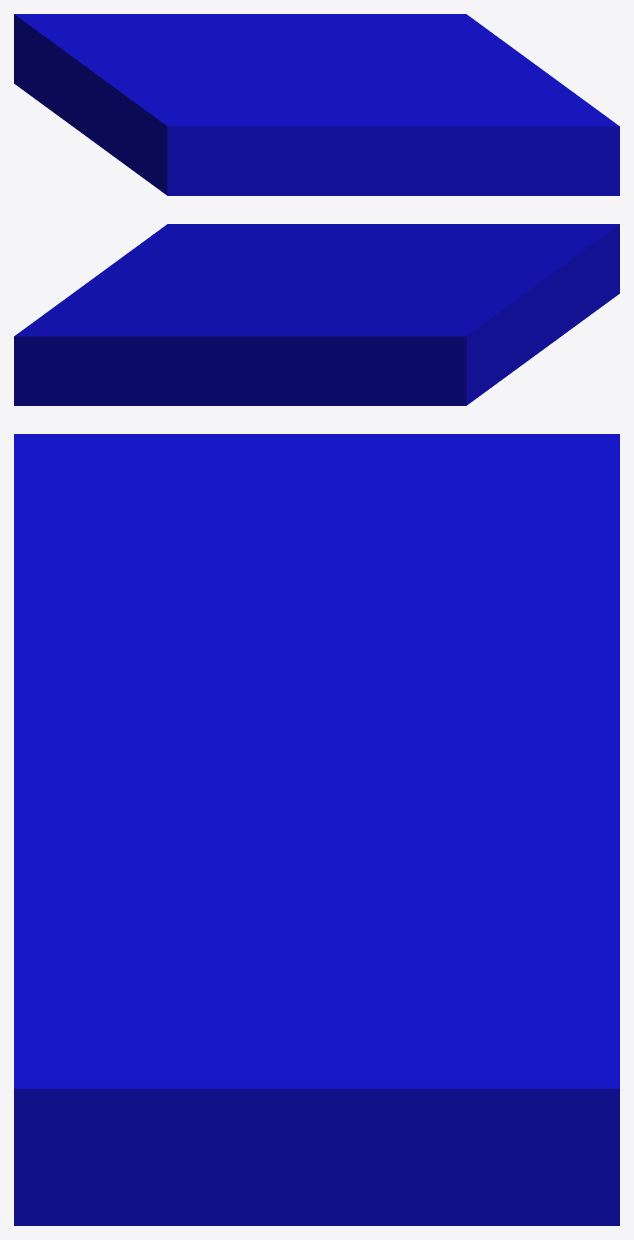
File: struct2.dae
The picture shows the model from 3 angles, top to bottom: view 1: azimuth 30°, elevation 25°; view 2: azimuth 150°, elevation 25°; view 3: azimuth 270°, elevation 25°; orthographic projection. The views are drawn at different scales.
Visible parts, largest first — view 1: Export_struct2_a; view 2: Export_struct2_a; view 3: Export_struct2_a.
Part boxes in pixels (x1,y1,x2,y2): Export_struct2_a: [14, 14, 619, 195]; Export_struct2_a: [14, 224, 619, 405]; Export_struct2_a: [14, 434, 619, 1225].
Size of the model in its own units: 27.25 by 16 by 10.36.
